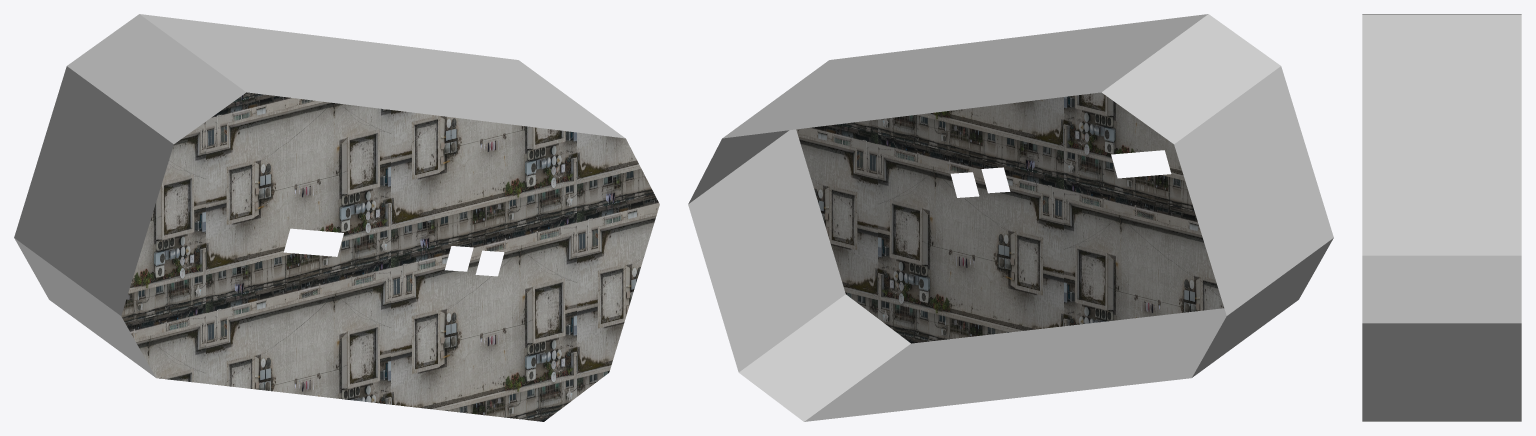
The model's file is geospecific_303.obj.
The picture shows the model from 3 angles, left to right: view 1: azimuth 30°, elevation 25°; view 2: azimuth 150°, elevation 25°; view 3: azimuth 270°, elevation 25°; orthographic projection. The views are drawn at different scales.
Parts seen in each view (by area): view 1: Building; view 2: Building; view 3: Building.
Part boxes in pixels (x1,y1,x2,y2): Building: [14, 14, 659, 421]; Building: [688, 14, 1333, 421]; Building: [1362, 14, 1521, 421].
Bounding box in the file's own units: 60.95 × 43.48 × 21.
